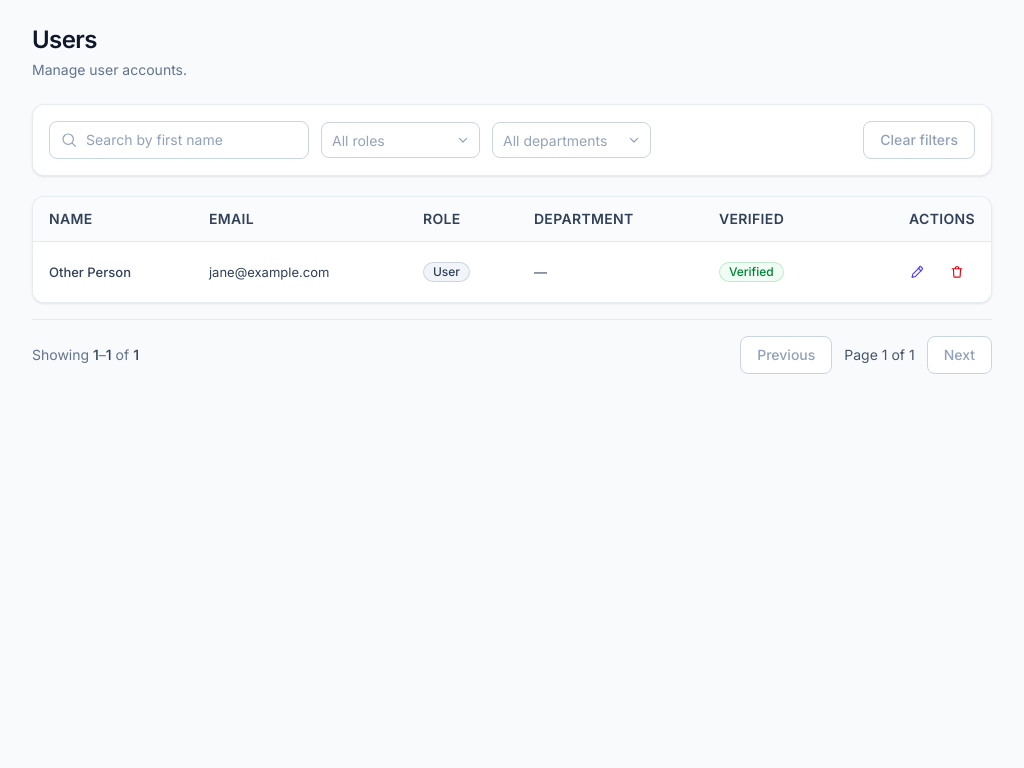
it: UsersListPage › deletes a user after confirming and removes it from the list
Step 1. Click the button named "Delete Other Person" → (957, 272), box [939,254,975,290]
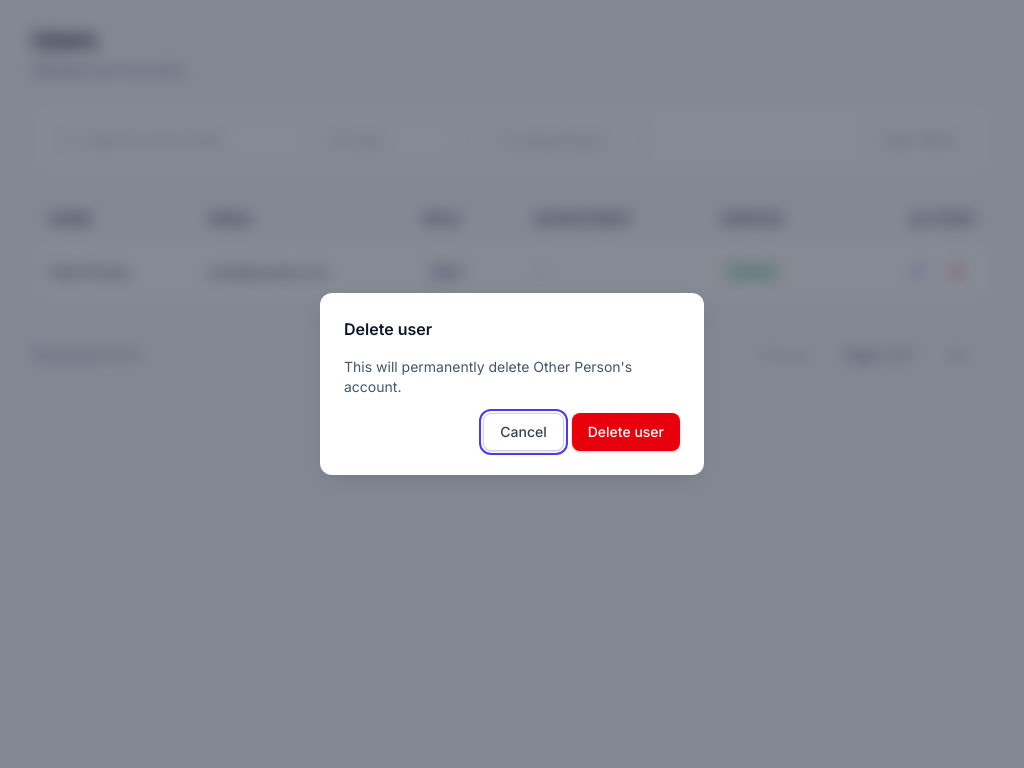
Result: the dialog shows "Other Person" at [344,358,632,395]
Step 2. Click the button "Delete user" → (626, 432), box [572,413,680,451]
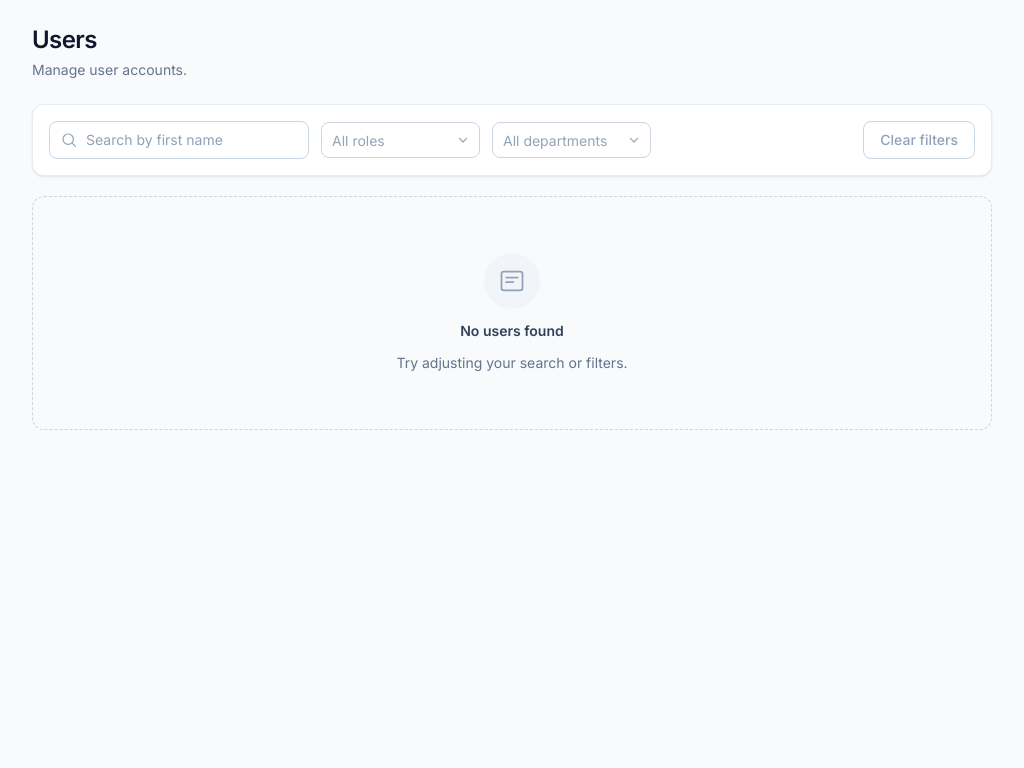
Result: no links "Other Person" are shown
